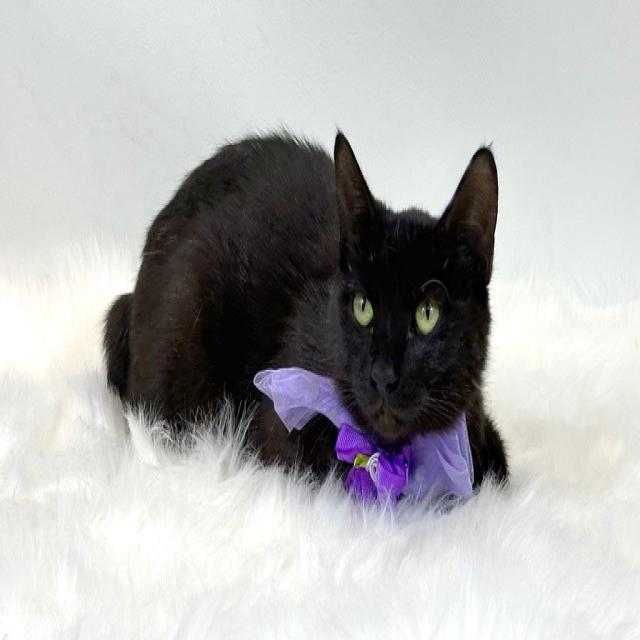manx_cat: (321, 120, 507, 464)
